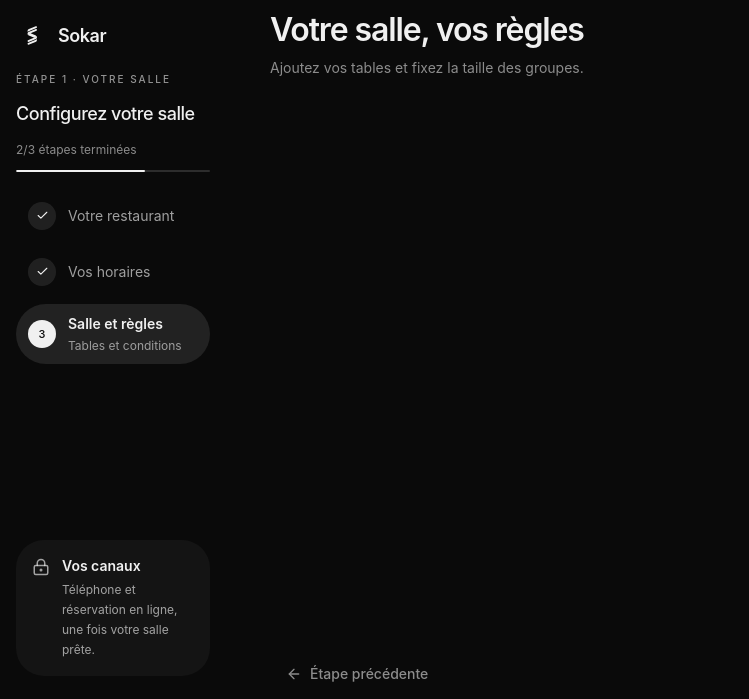
Test: garde le point actif quand l’étape courante est déjà marquée terminée
Click the button "Vos horaires" at (113, 272), box [16,248,210,296]
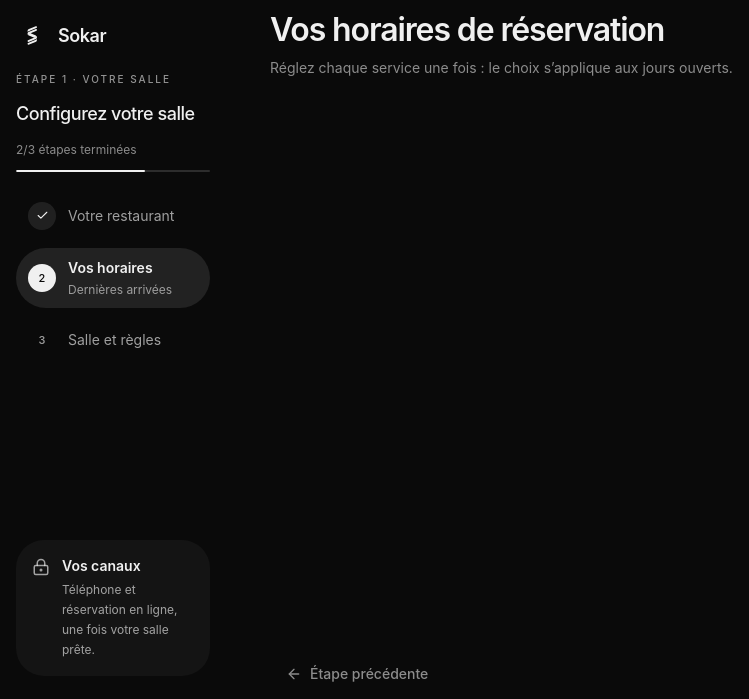
Now the text "Réglez chaque service une fois : le choix s’applique aux jours ouverts." is shown, box [270,59,733,76]
